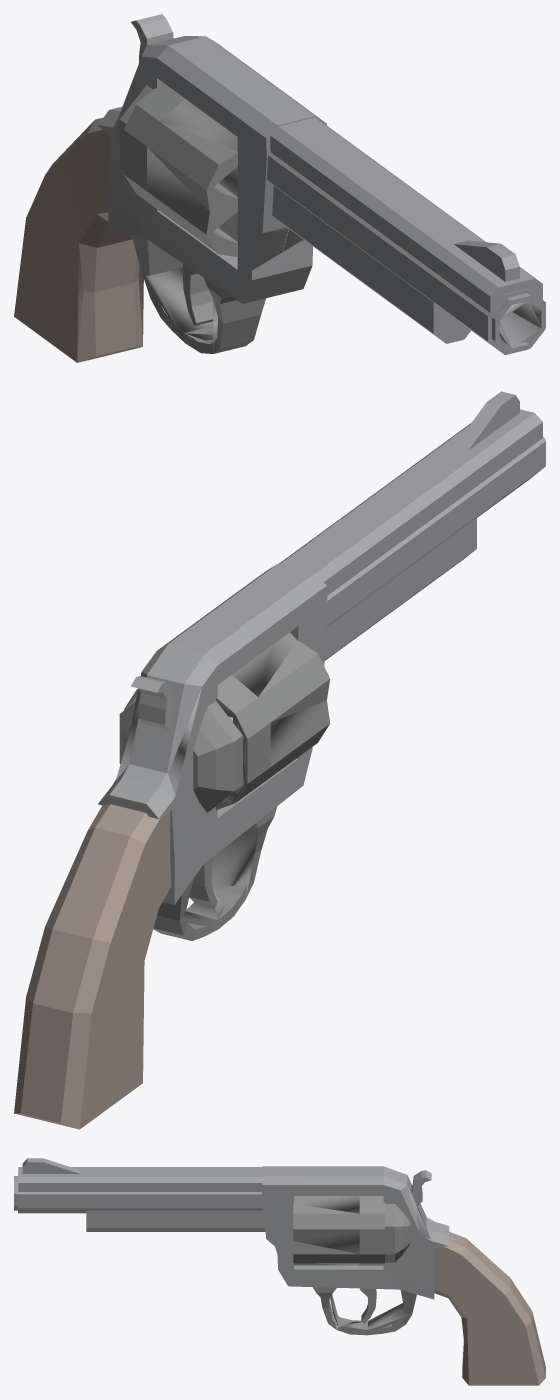
File: item_revolver.glb
3 views of the same model, one above another, from view 1: azimuth 30°, elevation 25°; view 2: azimuth 150°, elevation 25°; view 3: azimuth 270°, elevation 25° (orthographic). The views are drawn at different scales.
Visible parts, largest first — view 1: RevolverMain_submesh_2, RevolverMain_submesh_1, RevolverCylinder_submesh_1, RevolverMain_submesh_0, RevolverHammer; view 2: RevolverMain_submesh_2, RevolverMain_submesh_1, RevolverCylinder_submesh_1, RevolverMain_submesh_0, RevolverHammer; view 3: RevolverMain_submesh_2, RevolverMain_submesh_1, RevolverCylinder_submesh_1, RevolverMain_submesh_0, RevolverHammer.
Boxes of the visible parts, x1,y1,x2,y2 form: RevolverMain_submesh_2: [98, 36, 545, 355]; RevolverMain_submesh_1: [14, 117, 143, 362]; RevolverCylinder_submesh_1: [124, 83, 237, 257]; RevolverMain_submesh_0: [119, 85, 265, 353]; RevolverHammer: [131, 14, 173, 63]; RevolverMain_submesh_2: [98, 391, 545, 904]; RevolverMain_submesh_1: [14, 804, 171, 1129]; RevolverCylinder_submesh_1: [124, 632, 330, 809]; RevolverMain_submesh_0: [119, 701, 277, 940]; RevolverHammer: [131, 676, 174, 729]; RevolverMain_submesh_2: [14, 1158, 449, 1299]; RevolverMain_submesh_1: [434, 1232, 545, 1385]; RevolverCylinder_submesh_1: [293, 1196, 384, 1265]; RevolverMain_submesh_0: [313, 1204, 416, 1335]; RevolverHammer: [411, 1170, 431, 1205].
Size of the model in its own units: 0.0589 by 0.178 by 0.3964.
